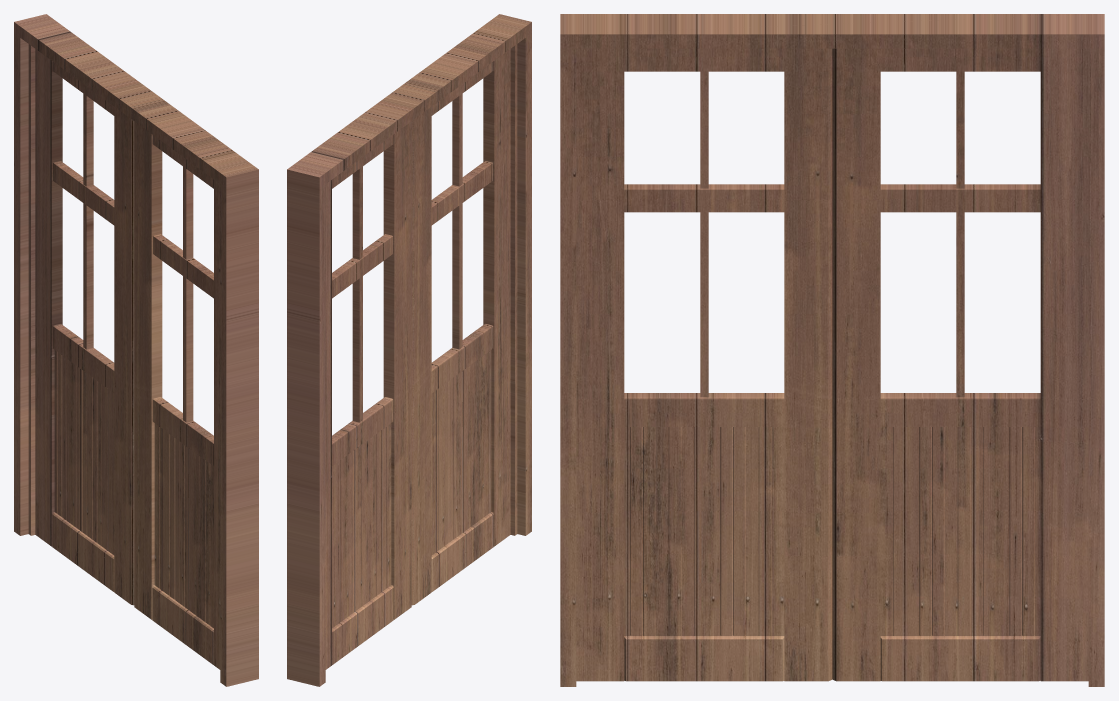
Rendered from door1.obj.
3 renders of one model, left to right at view 1: azimuth 30°, elevation 25°; view 2: azimuth 150°, elevation 25°; view 3: azimuth 270°, elevation 25°, orthographic. The views are drawn at different scales.
Parts seen in each view (by area): view 1: modelPanel4ViewSelectedSet group62 _Door_Double:pCube22, modelPanel4ViewSelectedSet group62 _Door_Double:pCube29, modelPanel4ViewSelectedSet group62 _Door_Double:pCube2, modelPanel4ViewSelectedSet group62 _Door_Double:pCube1, modelPanel4ViewSelectedSet group62 _Door_Double:pCube24, modelPanel4ViewSelectedSet group62 _Door_Double:pCube23, modelPanel4ViewSelectedSet group62 _Door_Double:pCube26, modelPanel4ViewSelectedSet group62 _Door_Double:pCube28, modelPanel4ViewSelectedSet group62 _Door_Double:pCube39, modelPanel4ViewSelectedSet group62 _Door_Double:pCube3, modelPanel4ViewSelectedSet group62 _Door_Double:pCube4, modelPanel4ViewSelectedSet group62 _Door_Double:pCube33 (+31 smaller); view 2: modelPanel4ViewSelectedSet group62 _Door_Double:pCube23, modelPanel4ViewSelectedSet group62 _Door_Double:pCube1, modelPanel4ViewSelectedSet group62 _Door_Double:pCube28, modelPanel4ViewSelectedSet group62 _Door_Double:pCube29, modelPanel4ViewSelectedSet group62 _Door_Double:pCube24, modelPanel4ViewSelectedSet group62 _Door_Double:pCube22, modelPanel4ViewSelectedSet group62 _Door_Double:pCube25, modelPanel4ViewSelectedSet group62 _Door_Double:pCube2, modelPanel4ViewSelectedSet group62 _Door_Double:pCube3, modelPanel4ViewSelectedSet group62 _Door_Double:pCube39, modelPanel4ViewSelectedSet group62 _Door_Double:pCube33, modelPanel4ViewSelectedSet group62 _Door_Double:pCube4 (+31 smaller); view 3: modelPanel4ViewSelectedSet group62 _Door_Double:pCube2, modelPanel4ViewSelectedSet group62 _Door_Double:pCube28, modelPanel4ViewSelectedSet group62 _Door_Double:pCube1, modelPanel4ViewSelectedSet group62 _Door_Double:pCube29, modelPanel4ViewSelectedSet group62 _Door_Double:pCube24, modelPanel4ViewSelectedSet group62 _Door_Double:pCube22, modelPanel4ViewSelectedSet group62 _Door_Double:pCube23, modelPanel4ViewSelectedSet group62 _Door_Double:pCube4, modelPanel4ViewSelectedSet group62 _Door_Double:pCube33, modelPanel4ViewSelectedSet group62 _Door_Double:pCube6, modelPanel4ViewSelectedSet group62 _Door_Double:pCube31, modelPanel4ViewSelectedSet group62 _Door_Double:pCube7 (+31 smaller).
Part boxes in pixels (bbox=[...]): modelPanel4ViewSelectedSet group62 _Door_Double:pCube22: bbox=[220, 181, 258, 686]; modelPanel4ViewSelectedSet group62 _Door_Double:pCube29: bbox=[134, 121, 162, 619]; modelPanel4ViewSelectedSet group62 _Door_Double:pCube2: bbox=[35, 49, 62, 546]; modelPanel4ViewSelectedSet group62 _Door_Double:pCube1: bbox=[114, 107, 134, 605]; modelPanel4ViewSelectedSet group62 _Door_Double:pCube24: bbox=[14, 14, 258, 188]; modelPanel4ViewSelectedSet group62 _Door_Double:pCube23: bbox=[14, 33, 28, 535]; modelPanel4ViewSelectedSet group62 _Door_Double:pCube26: bbox=[28, 44, 35, 535]; modelPanel4ViewSelectedSet group62 _Door_Double:pCube28: bbox=[214, 180, 220, 669]; modelPanel4ViewSelectedSet group62 _Door_Double:pCube39: bbox=[183, 166, 193, 422]; modelPanel4ViewSelectedSet group62 _Door_Double:pCube3: bbox=[83, 93, 93, 349]; modelPanel4ViewSelectedSet group62 _Door_Double:pCube4: bbox=[52, 512, 114, 591]; modelPanel4ViewSelectedSet group62 _Door_Double:pCube33: bbox=[152, 585, 213, 664]; modelPanel4ViewSelectedSet group62 _Door_Double:pCube23: bbox=[287, 181, 325, 686]; modelPanel4ViewSelectedSet group62 _Door_Double:pCube1: bbox=[383, 121, 411, 619]; modelPanel4ViewSelectedSet group62 _Door_Double:pCube28: bbox=[483, 49, 510, 546]; modelPanel4ViewSelectedSet group62 _Door_Double:pCube29: bbox=[411, 107, 431, 605]; modelPanel4ViewSelectedSet group62 _Door_Double:pCube24: bbox=[287, 14, 531, 188]; modelPanel4ViewSelectedSet group62 _Door_Double:pCube22: bbox=[517, 33, 531, 535]; modelPanel4ViewSelectedSet group62 _Door_Double:pCube25: bbox=[510, 44, 517, 535]; modelPanel4ViewSelectedSet group62 _Door_Double:pCube2: bbox=[325, 180, 331, 669]; modelPanel4ViewSelectedSet group62 _Door_Double:pCube3: bbox=[352, 166, 362, 422]; modelPanel4ViewSelectedSet group62 _Door_Double:pCube39: bbox=[452, 93, 462, 349]; modelPanel4ViewSelectedSet group62 _Door_Double:pCube33: bbox=[431, 512, 493, 591]; modelPanel4ViewSelectedSet group62 _Door_Double:pCube4: bbox=[332, 585, 393, 664]; modelPanel4ViewSelectedSet group62 _Door_Double:pCube2: bbox=[1040, 48, 1088, 681]; modelPanel4ViewSelectedSet group62 _Door_Double:pCube28: bbox=[576, 48, 624, 681]; modelPanel4ViewSelectedSet group62 _Door_Double:pCube1: bbox=[832, 48, 880, 681]; modelPanel4ViewSelectedSet group62 _Door_Double:pCube29: bbox=[784, 48, 832, 681]; modelPanel4ViewSelectedSet group62 _Door_Double:pCube24: bbox=[560, 14, 1104, 48]; modelPanel4ViewSelectedSet group62 _Door_Double:pCube22: bbox=[560, 48, 576, 686]; modelPanel4ViewSelectedSet group62 _Door_Double:pCube23: bbox=[1088, 48, 1104, 686]; modelPanel4ViewSelectedSet group62 _Door_Double:pCube4: bbox=[880, 635, 1040, 681]; modelPanel4ViewSelectedSet group62 _Door_Double:pCube33: bbox=[624, 635, 784, 681]; modelPanel4ViewSelectedSet group62 _Door_Double:pCube6: bbox=[880, 393, 1040, 426]; modelPanel4ViewSelectedSet group62 _Door_Double:pCube31: bbox=[624, 393, 784, 426]; modelPanel4ViewSelectedSet group62 _Door_Double:pCube7: bbox=[880, 184, 1040, 212].
Bounding box in the file's own units: 15 × 225 × 170.
